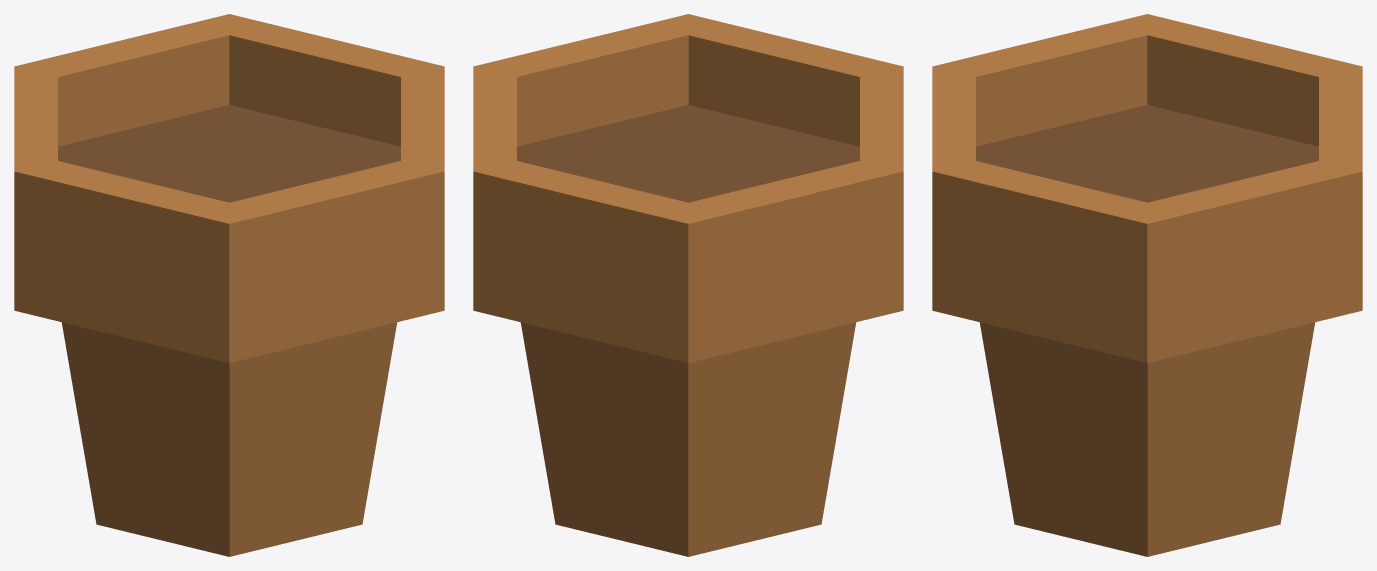
Rendered from pot_small.glb.
3 renders of one model, left to right at view 1: azimuth 30°, elevation 25°; view 2: azimuth 150°, elevation 25°; view 3: azimuth 270°, elevation 25°, orthographic.
Visible parts, largest first — view 1: pot_small; view 2: pot_small; view 3: pot_small.
Part boxes in pixels (box(x1,y1,x2,y2)): pot_small: box(14, 14, 444, 556); pot_small: box(473, 14, 903, 556); pot_small: box(932, 14, 1362, 556).
Size of the model in its own units: 0.3234 by 0.268 by 0.2801.
